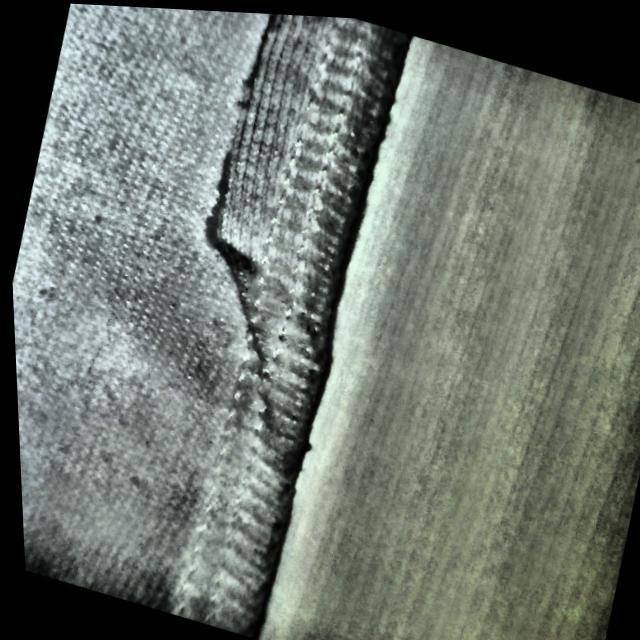seam: (134, 5, 419, 361)
